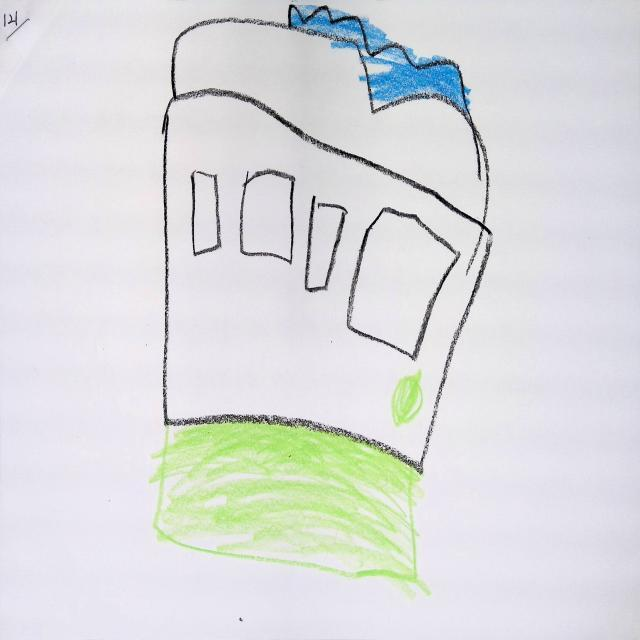house: (164, 19, 492, 472)
roof: (172, 19, 491, 228)
wall: (165, 93, 495, 472)
window: (348, 208, 461, 360), (241, 170, 295, 263), (306, 196, 348, 290), (192, 171, 221, 256)
